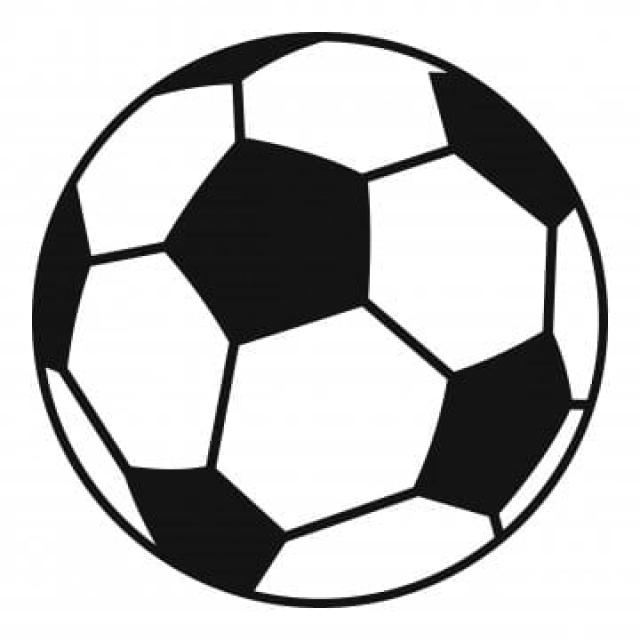soccer ball: (36, 32, 606, 604)
